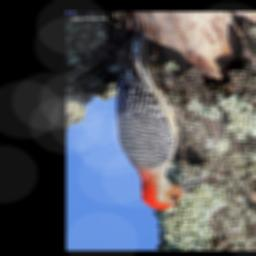Woodpecker: (114, 23, 204, 212)
